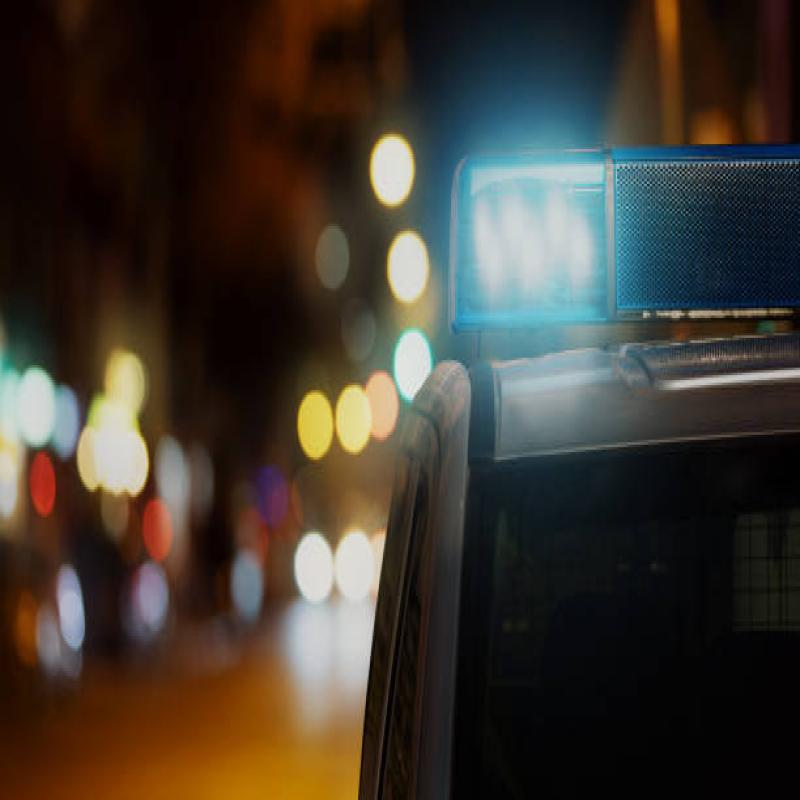AmbulanceSiren: (429, 136, 800, 368)
